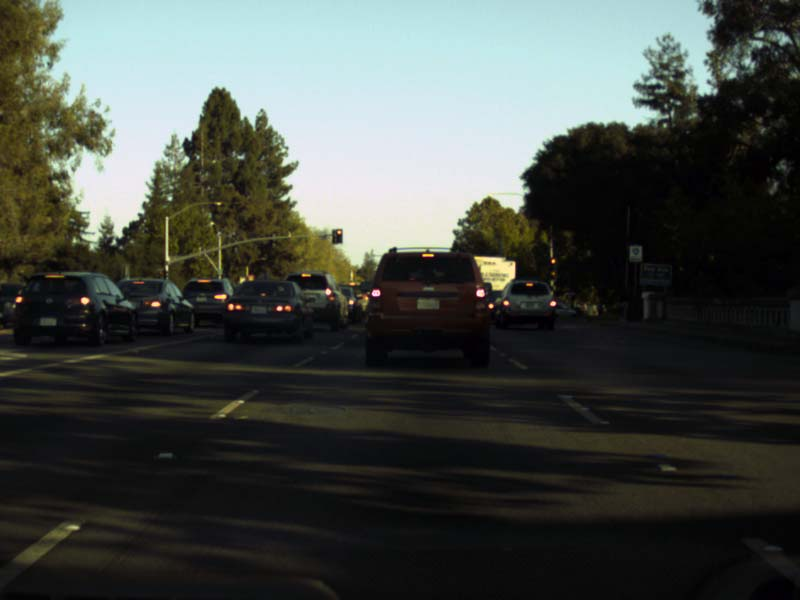Red: (335, 229, 342, 243), (550, 257, 555, 271)
